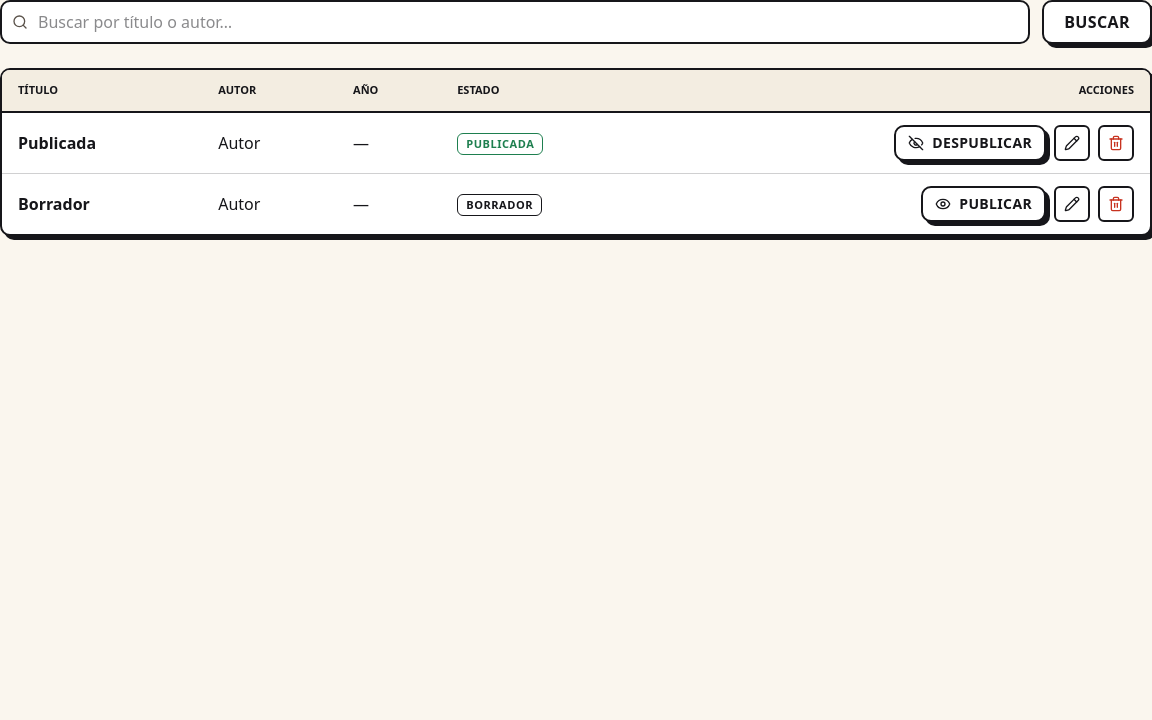
Test: CurationList › eliminar pide confirmacion explicita
Click the button named "Eliminar Publicada".
click(1116, 142)  # box [1098,124,1134,160]
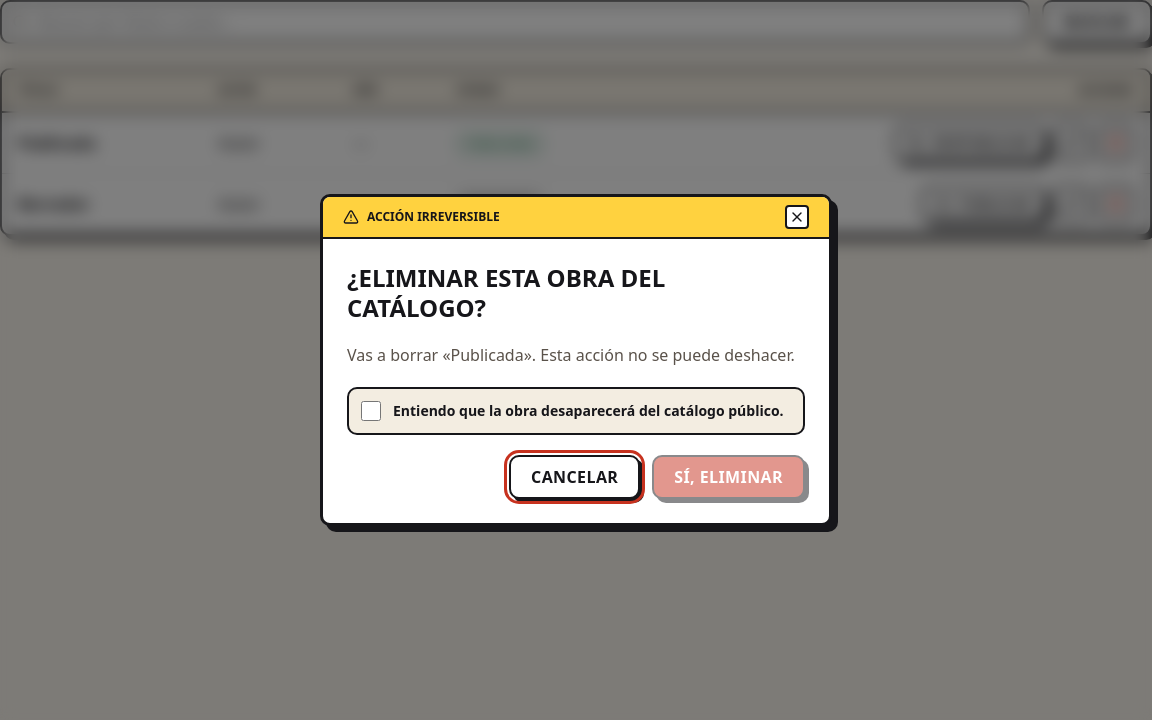
Now the button "Sí, eliminar" is disabled, box [652,455,805,499]
Click the checkbox.
click(371, 411)  # box [361,401,381,421]
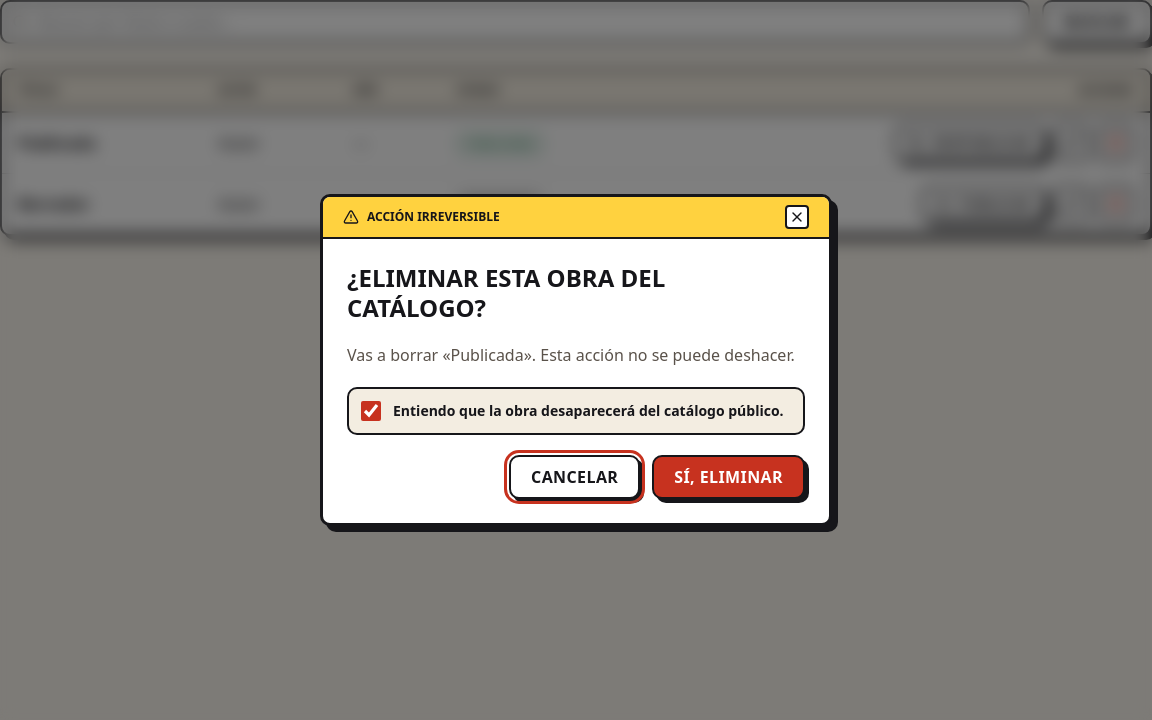
Click the button "Sí, eliminar".
click(729, 477)  # box [652,455,805,499]
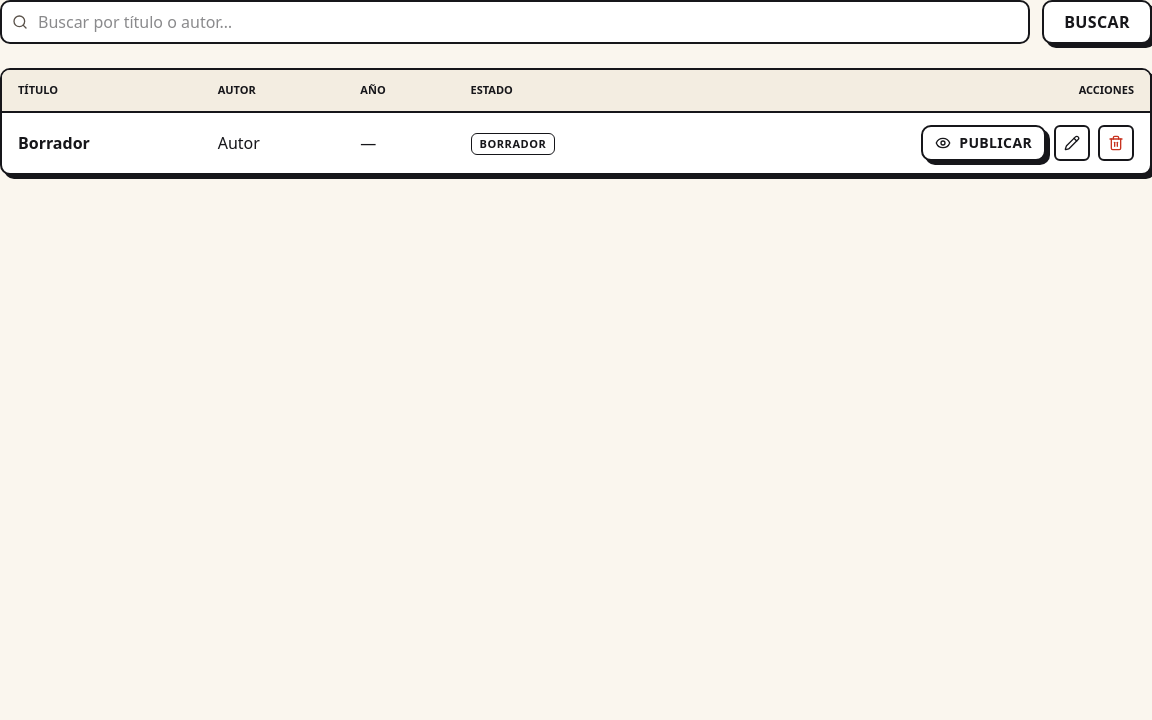
Expected: the column heading "Borrador" is shown, [2,112,202,172]
Now the column heading "Publicada" is gone
